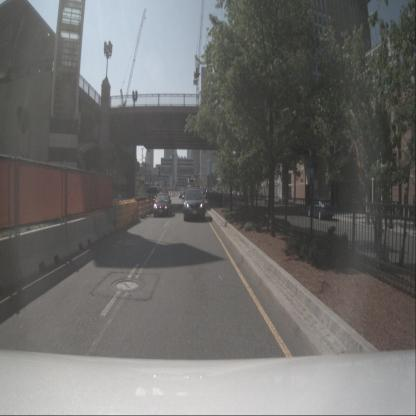movable_object-barrier: (14, 223, 70, 289), (64, 215, 98, 256), (0, 234, 21, 295), (111, 199, 137, 233), (92, 211, 117, 240)
movable_object-trafficcone: (138, 201, 144, 219), (142, 200, 147, 217), (145, 199, 150, 215), (148, 197, 152, 214)
vehicle-car: (184, 188, 206, 220), (306, 198, 334, 219), (153, 193, 172, 216), (146, 186, 161, 204), (179, 190, 185, 200)
